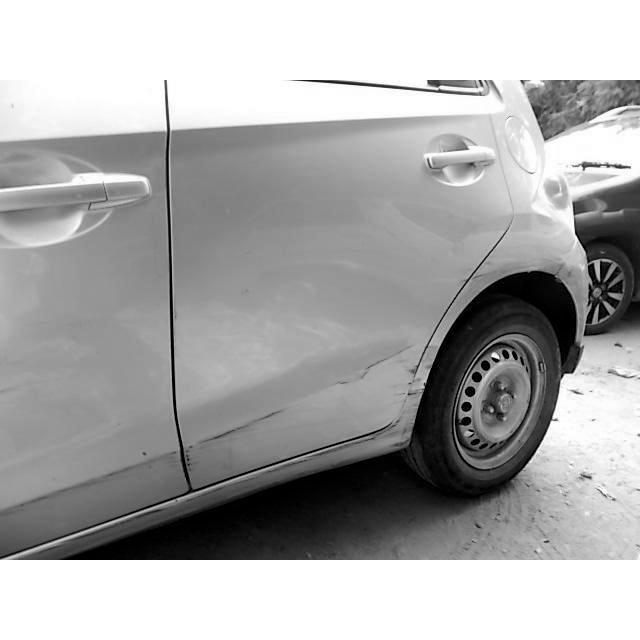doorouter-dent: (176, 86, 480, 472), (4, 87, 176, 510)
